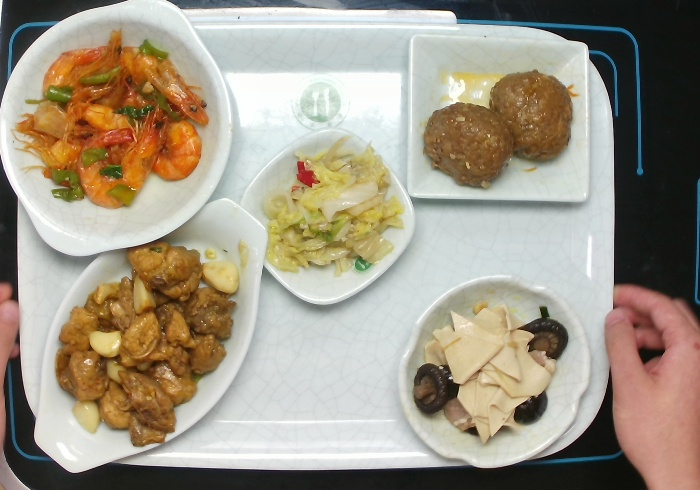JYsf-Ao_Yuan_Wan: (393, 272, 596, 471)
JYsf-Shuang_Er_Wan: (4, 1, 239, 256)
JYsf-Si_Fang_Die: (237, 122, 417, 306)
JYsf-Yu_Pan: (25, 192, 268, 472)
WCQzf-Ru_Ci_Si_Fang_Die: (401, 28, 596, 214)
